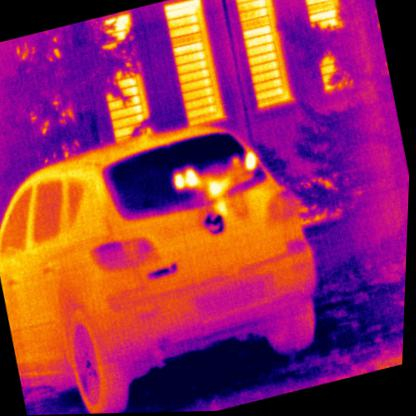drone: (167, 147, 270, 225)
